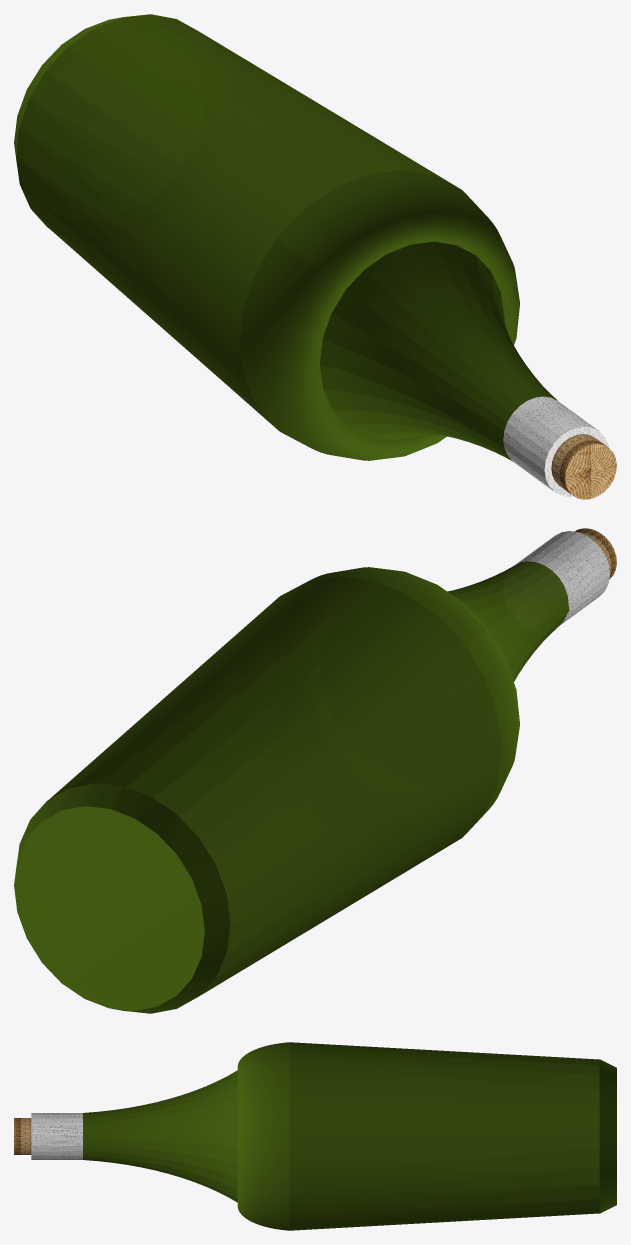
Rendered from model_align.obj.
3 views of the same model, one above another, from view 1: azimuth 30°, elevation 25°; view 2: azimuth 150°, elevation 25°; view 3: azimuth 270°, elevation 25° (orthographic). The views are drawn at different scales.
Parts seen in each view (by area): view 1: mesh1_mesh1-geometry; view 2: mesh1_mesh1-geometry, mesh2_mesh2-geometry; view 3: mesh1_mesh1-geometry.
Part boxes in pixels (x1,y1,x2,y2): mesh1_mesh1-geometry: (14, 14, 616, 499); mesh1_mesh1-geometry: (17, 528, 616, 1013); mesh2_mesh2-geometry: (14, 806, 204, 1010); mesh1_mesh1-geometry: (14, 1042, 616, 1230).
Size of the model in its own units: 0.0772 by 0.0772 by 0.2457.
